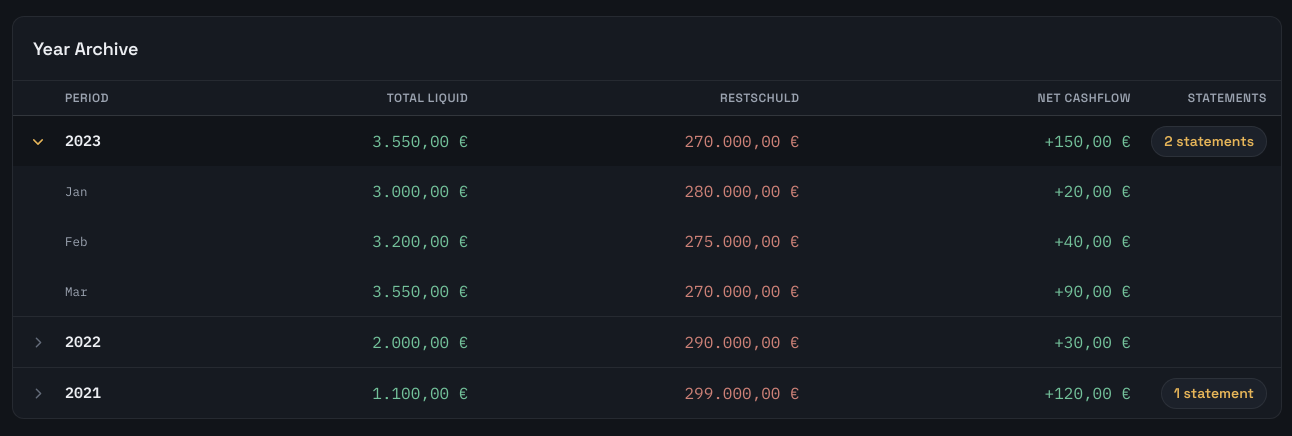
Test: YearArchive — expand / collapse interaction › collapses an expanded year when its header is clicked
Step 1. Click the button "2023 3.550,00 € 270.000,00 € +150,00 €" → (83, 140), box [13,116,1281,166]
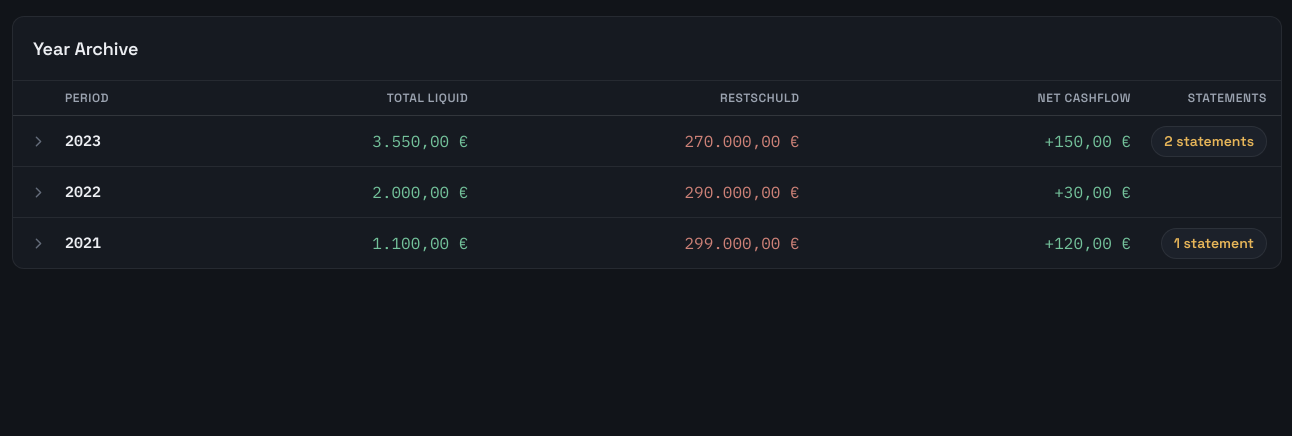
Now the button "2023 3.550,00 € 270.000,00 € +150,00 €" is collapsed, box [13,116,1281,166]
Now the link "Mar" is gone
